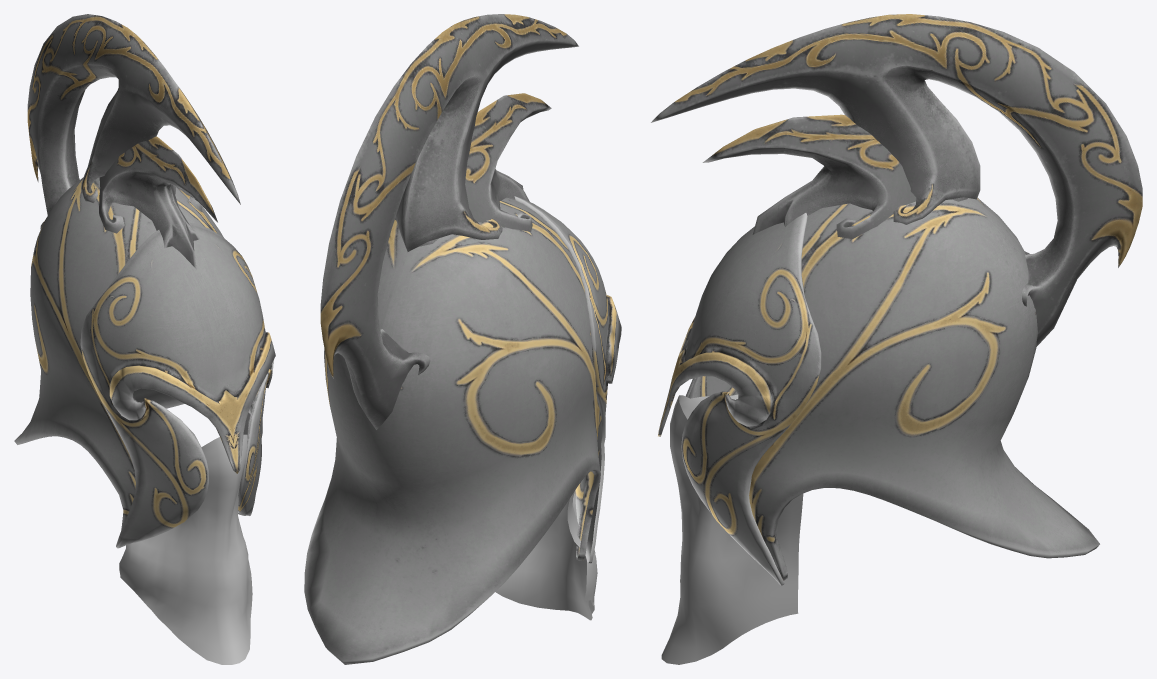
The model's file is rivendell_helmet_elite_silvergold.fbx.
The picture shows the model from 3 angles, left to right: view 1: azimuth 30°, elevation 25°; view 2: azimuth 150°, elevation 25°; view 3: azimuth 270°, elevation 25°; orthographic projection. The views are drawn at different scales.
Visible parts, largest first — view 1: rivendell_helmet_elite_silvergold.1, rivendell_helmet_elite_silvergold.0, rivendell_helmet_elite_silvergold.2; view 2: rivendell_helmet_elite_silvergold.1, rivendell_helmet_elite_silvergold.0, rivendell_helmet_elite_silvergold.2; view 3: rivendell_helmet_elite_silvergold.1, rivendell_helmet_elite_silvergold.0, rivendell_helmet_elite_silvergold.2.
Part boxes in pixels (x1,y1,x2,y2): rivendell_helmet_elite_silvergold.1: [14, 177, 275, 548]; rivendell_helmet_elite_silvergold.0: [27, 14, 240, 269]; rivendell_helmet_elite_silvergold.2: [119, 413, 252, 664]; rivendell_helmet_elite_silvergold.1: [304, 196, 621, 664]; rivendell_helmet_elite_silvergold.0: [320, 14, 578, 429]; rivendell_helmet_elite_silvergold.2: [495, 413, 599, 620]; rivendell_helmet_elite_silvergold.1: [658, 198, 1099, 585]; rivendell_helmet_elite_silvergold.0: [651, 14, 1142, 346]; rivendell_helmet_elite_silvergold.2: [661, 394, 803, 664].
Bounding box in the file's own units: 0.1912 × 0.3902 × 0.5621.
